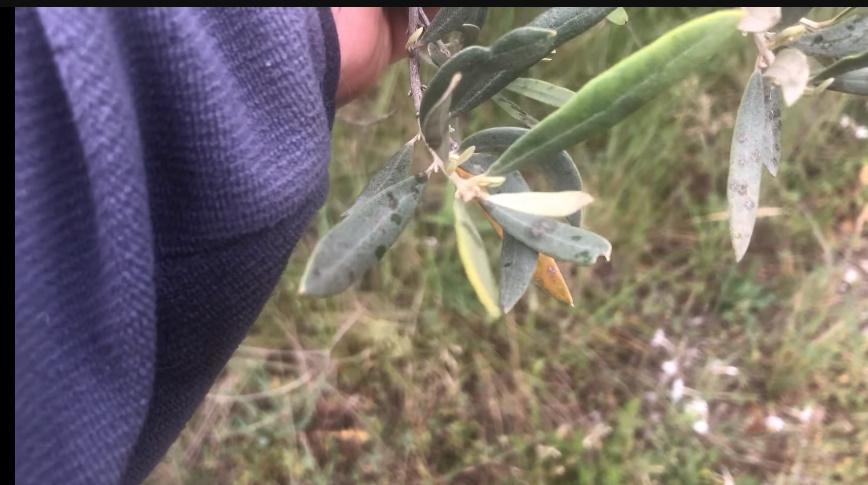OlivePeacockSpot: (300, 168, 429, 301), (458, 168, 575, 308), (479, 200, 614, 267), (722, 74, 769, 264), (764, 82, 784, 178)
